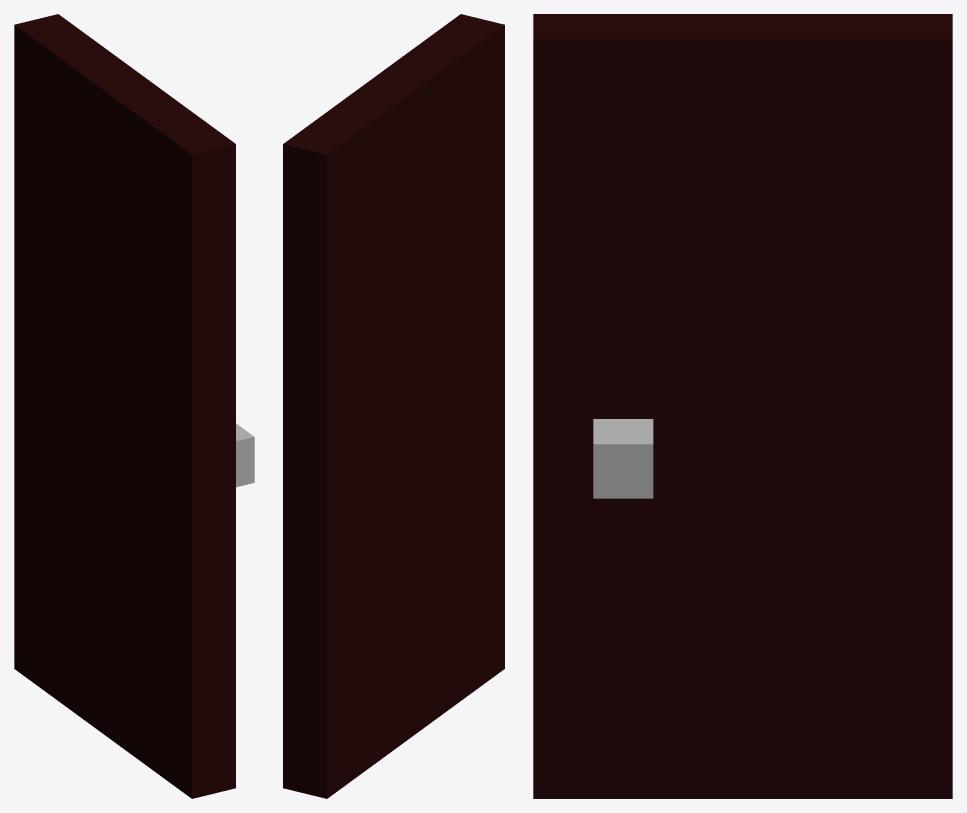
The model's file is Bank-10.obj.
The picture shows the model from 3 angles, left to right: view 1: azimuth 30°, elevation 25°; view 2: azimuth 150°, elevation 25°; view 3: azimuth 270°, elevation 25°; orthographic projection. The views are drawn at different scales.
Visible parts, largest first — view 1: Bank-10; view 2: Bank-10; view 3: Bank-10.
Part boxes in pixels (x1,y1,x2,y2): Bank-10: [14, 14, 254, 798]; Bank-10: [283, 14, 504, 798]; Bank-10: [533, 14, 952, 798].
Bounding box in the file's own units: 2 × 14 × 7.
